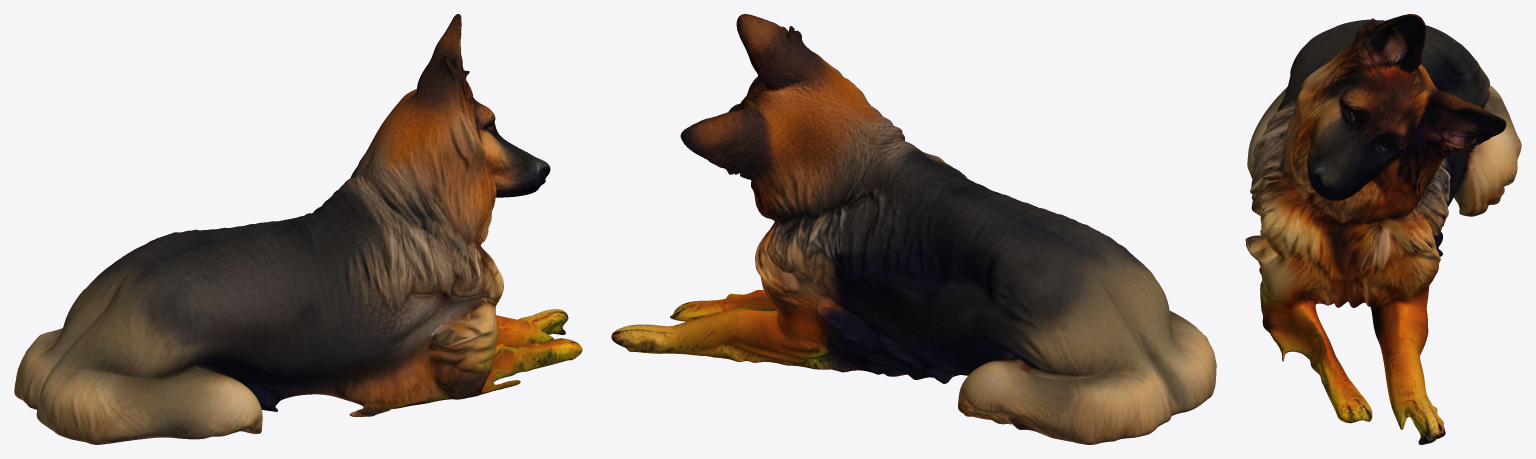
The model's file is PERRO2.fbx.
The picture shows the model from 3 angles, left to right: view 1: azimuth 30°, elevation 25°; view 2: azimuth 150°, elevation 25°; view 3: azimuth 270°, elevation 25°; orthographic projection. The views are drawn at different scales.
Visible parts, largest first — view 1: tripo_node_c27161bc; view 2: tripo_node_c27161bc; view 3: tripo_node_c27161bc.
Boxes of the visible parts, x1,y1,x2,y2 form: tripo_node_c27161bc: [14, 14, 582, 444]; tripo_node_c27161bc: [611, 14, 1216, 444]; tripo_node_c27161bc: [1245, 14, 1521, 444].
Size of the model in its own units: 100 by 60.45 by 40.37.
1 material, 1 textured.
